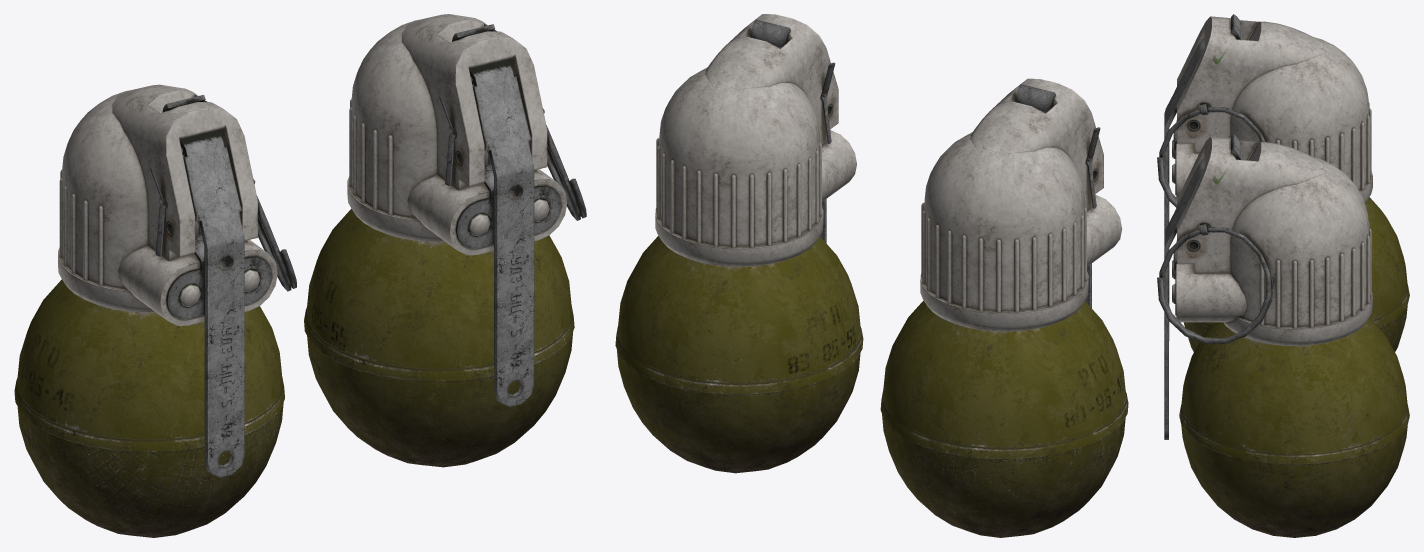
The model's file is rgo_rgn_grenades_lowpoly_gameready_models.glb.
3 renders of one model, left to right at view 1: azimuth 30°, elevation 25°; view 2: azimuth 150°, elevation 25°; view 3: azimuth 270°, elevation 25°, orthographic. The views are drawn at different scales.
Visible parts, largest first — view 1: wSphere.022, wSphere.028, wPlane.029, wPlane.022, wSphere.019, wSphere.027, wPlane.028, wPlane.021, wRing.027, wRing.036, Plane.014, Plane.018 (+4 smaller); view 2: wSphere.022, wSphere.028, wSphere.019, wSphere.027, wPlane.028, wPlane.021, wSphere.029, wSphere.023, wRing.027, wRing.036, wPlane.029, wPlane.022; view 3: wSphere.028, wSphere.027, wSphere.019, wPlane.028, wPlane.021, wSphere.022, wRing.036, wSphere.029, wPlane.029, Circle.017, wSphere.023, wPlane.022 (+4 smaller).
Part boxes in pixels (box(x1,y1,x2,y2)): wSphere.022: box(14, 279, 284, 537); wSphere.028: box(304, 208, 574, 467); wPlane.029: box(452, 24, 534, 406); wPlane.022: box(162, 95, 244, 477); wSphere.019: box(58, 90, 155, 312); wSphere.027: box(347, 19, 445, 242); wPlane.028: box(402, 14, 547, 190); wPlane.021: box(112, 84, 257, 260); wRing.027: box(118, 240, 277, 325); wRing.036: box(407, 169, 567, 255); Plane.014: box(166, 235, 271, 319); Plane.018: box(455, 165, 561, 248); wSphere.022: box(880, 301, 1128, 537); wSphere.028: box(615, 236, 863, 473); wSphere.019: box(920, 132, 1088, 331); wSphere.027: box(655, 67, 823, 266); wPlane.028: box(705, 14, 838, 145); wPlane.021: box(970, 78, 1103, 210); wSphere.029: box(656, 138, 821, 247); wSphere.023: box(921, 203, 1086, 312); wRing.027: box(1087, 194, 1121, 266); wRing.036: box(822, 130, 856, 201); wPlane.029: box(751, 19, 826, 243); wPlane.022: box(1016, 84, 1091, 308); wSphere.028: box(1179, 317, 1409, 537); wSphere.027: box(1223, 157, 1372, 345); wSphere.019: box(1230, 37, 1372, 202); wPlane.028: box(1177, 136, 1322, 273); wPlane.021: box(1177, 16, 1322, 153); wSphere.022: box(1184, 197, 1409, 351); wRing.036: box(1176, 240, 1247, 322); wSphere.029: box(1260, 223, 1371, 328); wPlane.029: box(1164, 134, 1240, 439); Circle.017: box(1157, 227, 1271, 343); wSphere.023: box(1276, 102, 1371, 190); wPlane.022: box(1164, 14, 1240, 233).
Size of what is drawn, in the model's own units: 0.1345 by 0.1112 by 0.066.
Materials: 2 (2 with a texture image).
